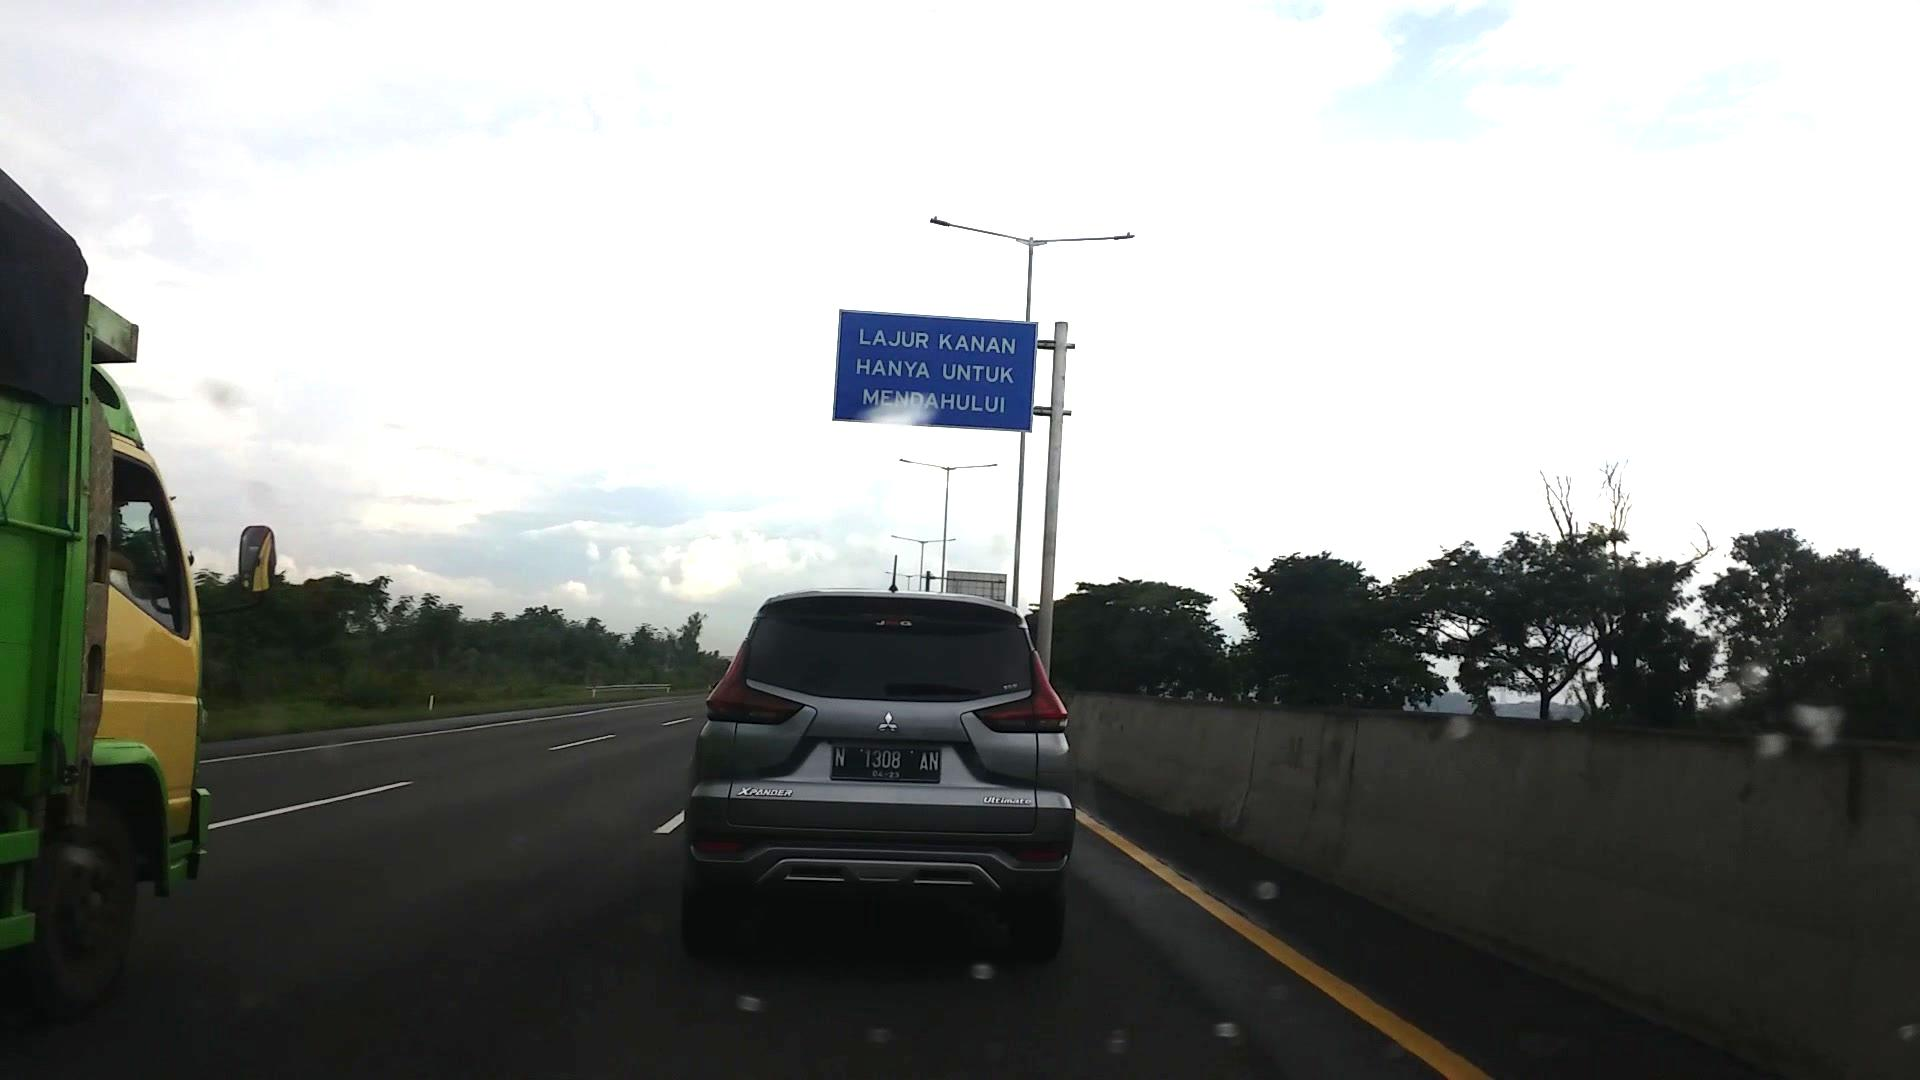plate_positive: (831, 746, 942, 783)
